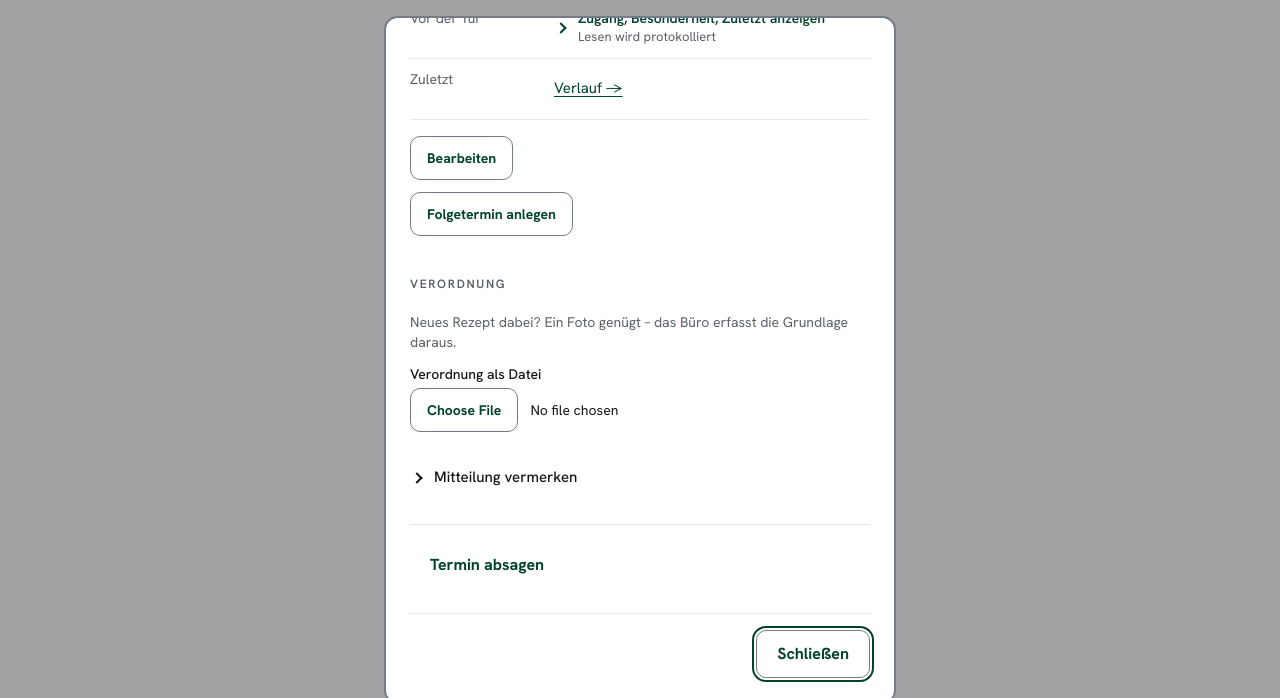
Test: TerminAktionenDialog › Aktionen (CAL-003) › zeigt einen Konflikt verstaendlich an, ohne fremde Daten zu nennen
(page scrolled)
Click the button "Termin absagen" at (487, 564), box [410, 540, 564, 588]
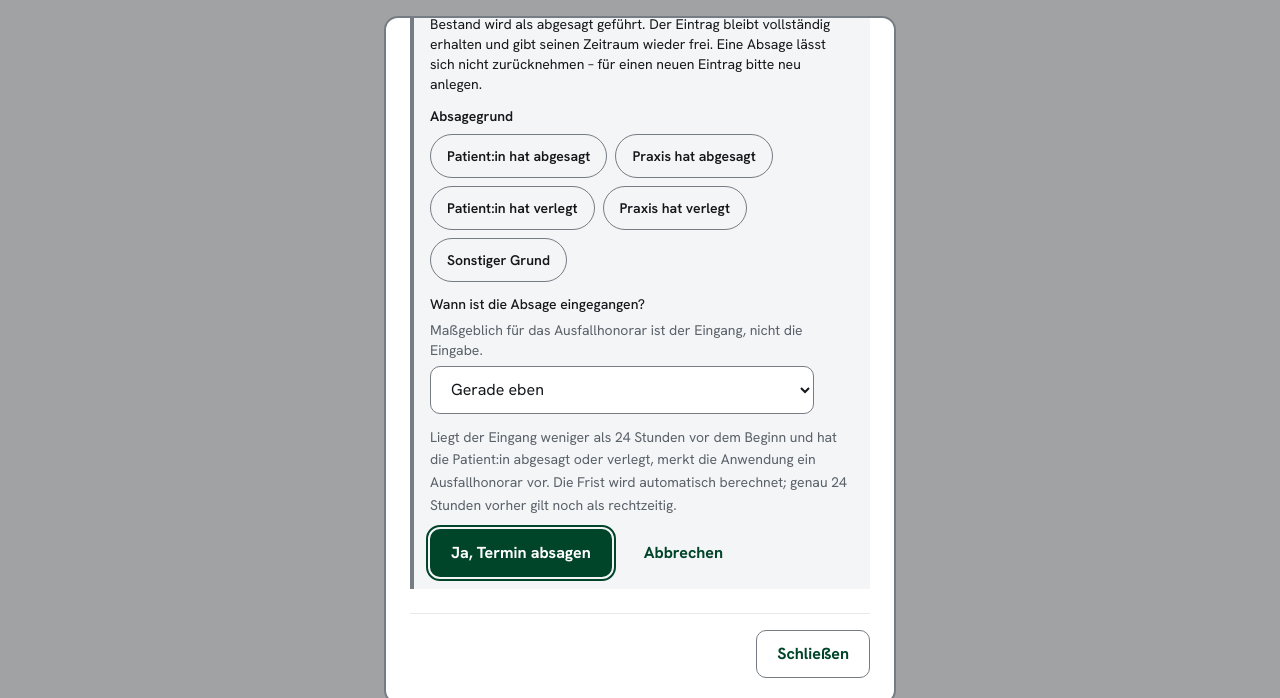
Click the button "Sonstiger Grund" at (498, 260), box [430, 238, 567, 282]
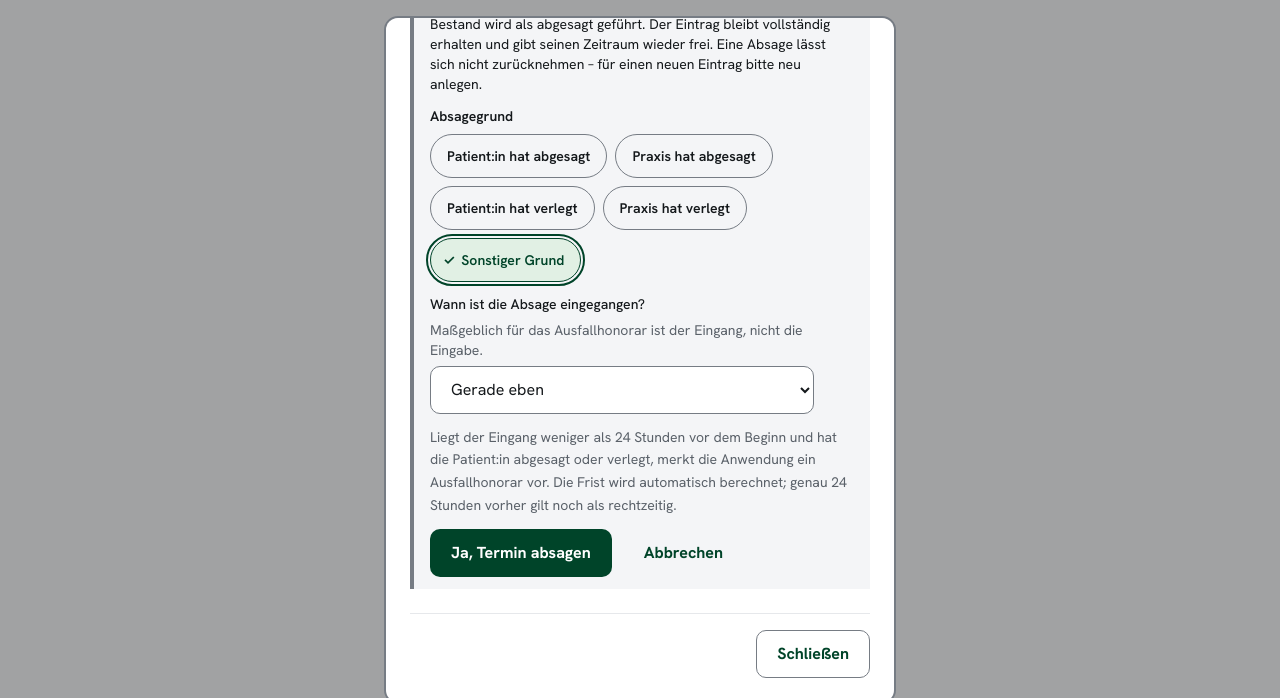
Click the button "Ja, Termin absagen" at (521, 552), box [430, 528, 612, 576]
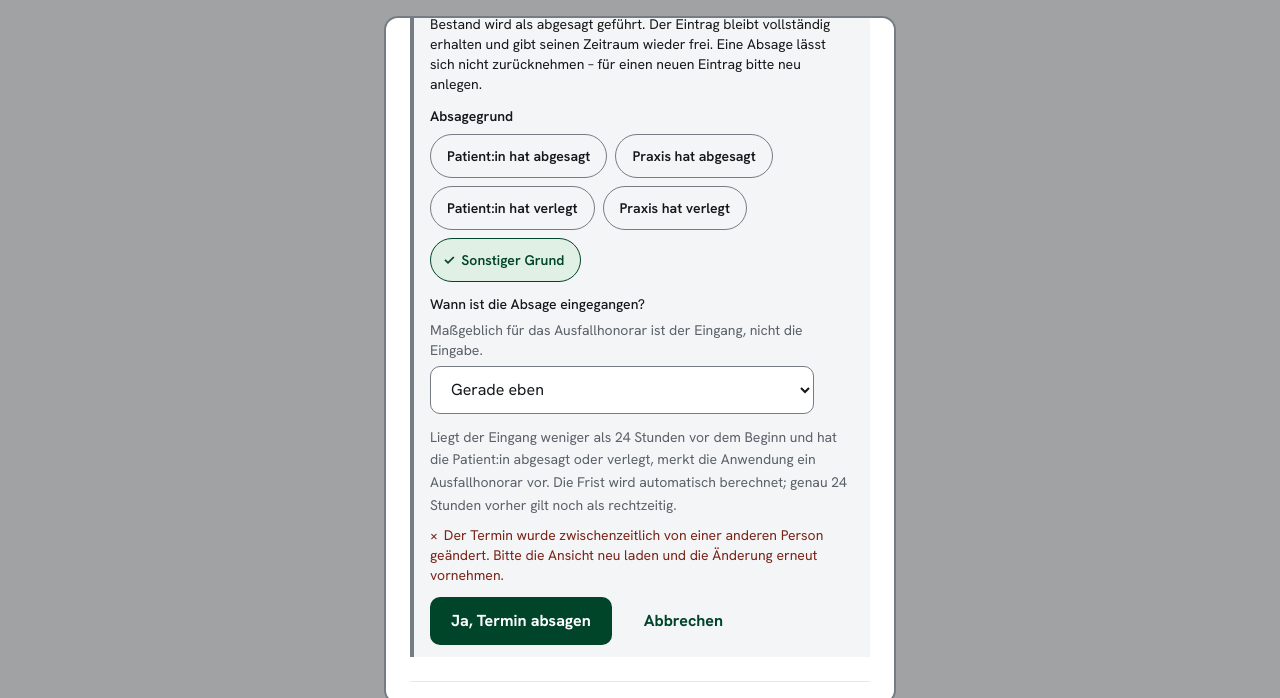
Now the text "zwischenzeitlich von einer anderen Person" is shown, box [430, 526, 823, 584]
